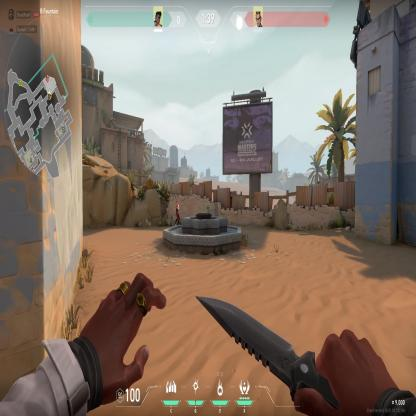enemy: (174, 200, 180, 225)
